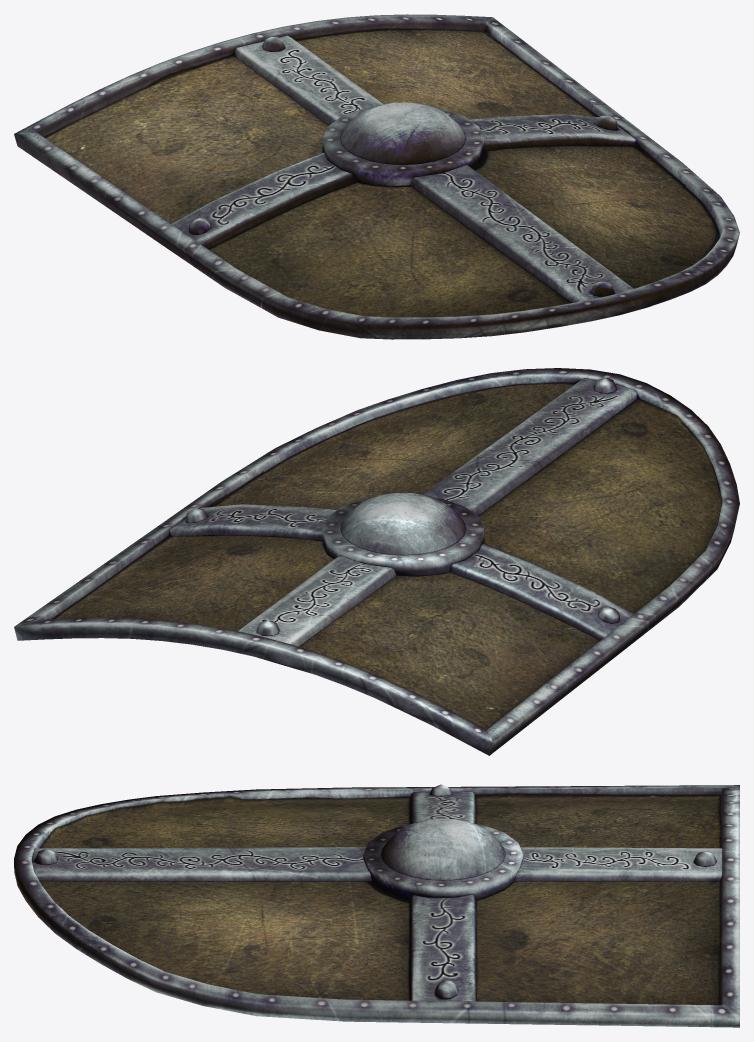
Rendered from Heater_C.FBX.
3 renders of one model, top to bottom at view 1: azimuth 30°, elevation 25°; view 2: azimuth 150°, elevation 25°; view 3: azimuth 270°, elevation 25°, orthographic.
Parts seen in each view (by area): view 1: Heater_C; view 2: Heater_C; view 3: Heater_C.
Part boxes in pixels (x1,y1,x2,y2): Heater_C: (14, 14, 739, 339); Heater_C: (14, 368, 739, 755); Heater_C: (14, 784, 739, 1027).
Size of the model in its own units: 51.19 by 11.03 by 67.92.
